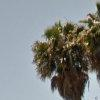Palm tree: (25, 12, 100, 99)
